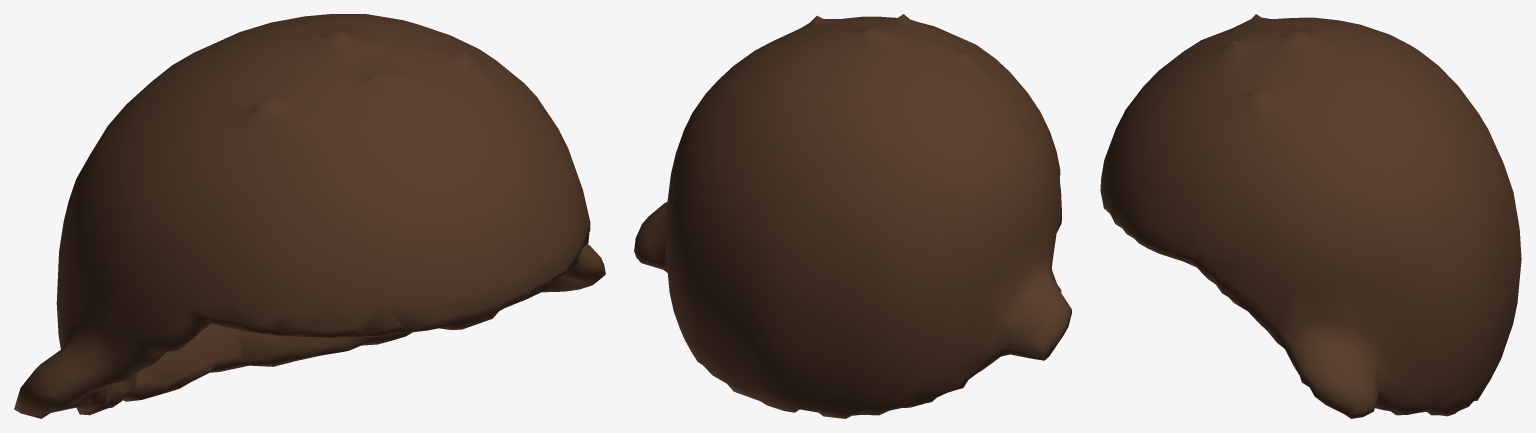
The model's file is hair_spiky.glb.
The picture shows the model from 3 angles, left to right: view 1: azimuth 30°, elevation 25°; view 2: azimuth 150°, elevation 25°; view 3: azimuth 270°, elevation 25°; orthographic projection. The views are drawn at different scales.
Parts seen in each view (by area): view 1: HairSpiky.001; view 2: HairSpiky.001; view 3: HairSpiky.001.
Boxes of the visible parts, box(x1,y1,x2,y2) form: HairSpiky.001: box(14, 14, 605, 418); HairSpiky.001: box(634, 14, 1071, 418); HairSpiky.001: box(1100, 14, 1521, 418).
Size of the model in its own units: 0.3617 by 0.2584 by 0.2891.
